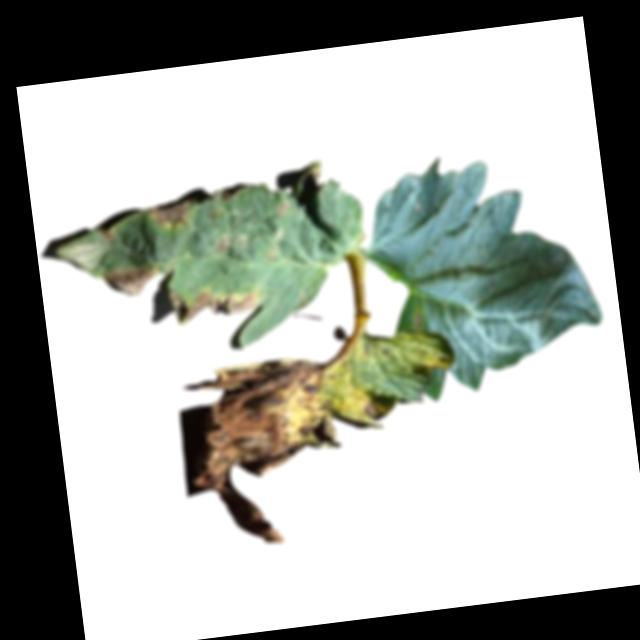Early_blight: (180, 351, 357, 552), (167, 280, 262, 329), (105, 262, 158, 298), (145, 196, 195, 230), (363, 395, 388, 424), (98, 227, 119, 247), (271, 195, 290, 217), (411, 307, 423, 328), (215, 239, 225, 254)
